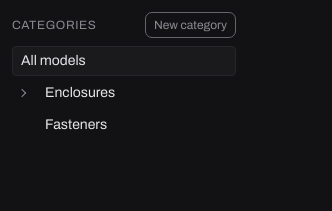
Test case: a closed branch draws none of its rows until it is opened, and closing it takes them away
Expected: the button "Vent grilles" is not shown
Click the button named "Show the categories inside Enclosures" at [22, 93], box 12,83 -> 32,103
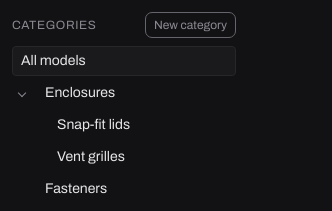
Now the button "Vent grilles" is shown, box 48,142 -> 236,172
Now the button "Snap-fit lids" is shown, box 48,110 -> 236,140
Click the button named "Hide the categories inside Enclosures" at [22, 93], box 12,83 -> 32,103
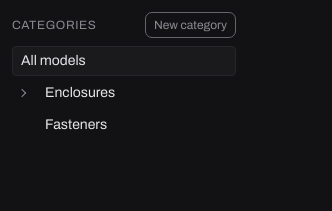
Now the button "Vent grilles" is gone
